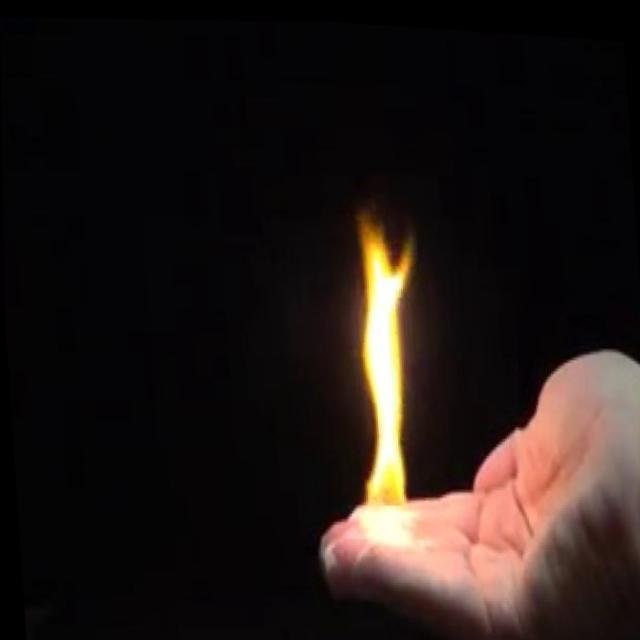Fire: (331, 171, 422, 557)
